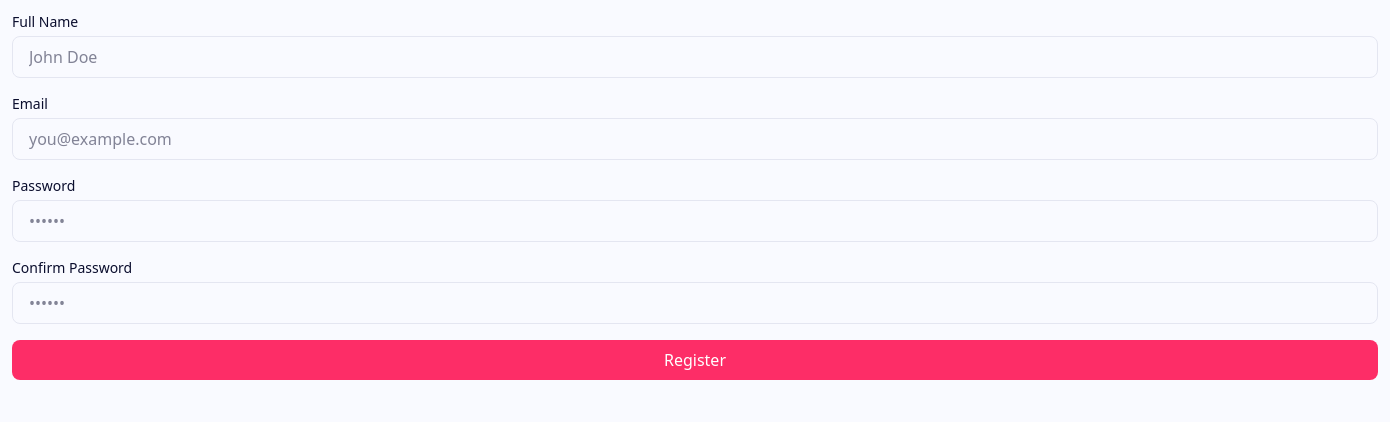
RegisterForm › Form Validation - Password › should display error for empty password
In the field with placeholder "John Doe": {"x": 695, "y": 57} [12, 36, 1378, 78], type "Jane Doe"
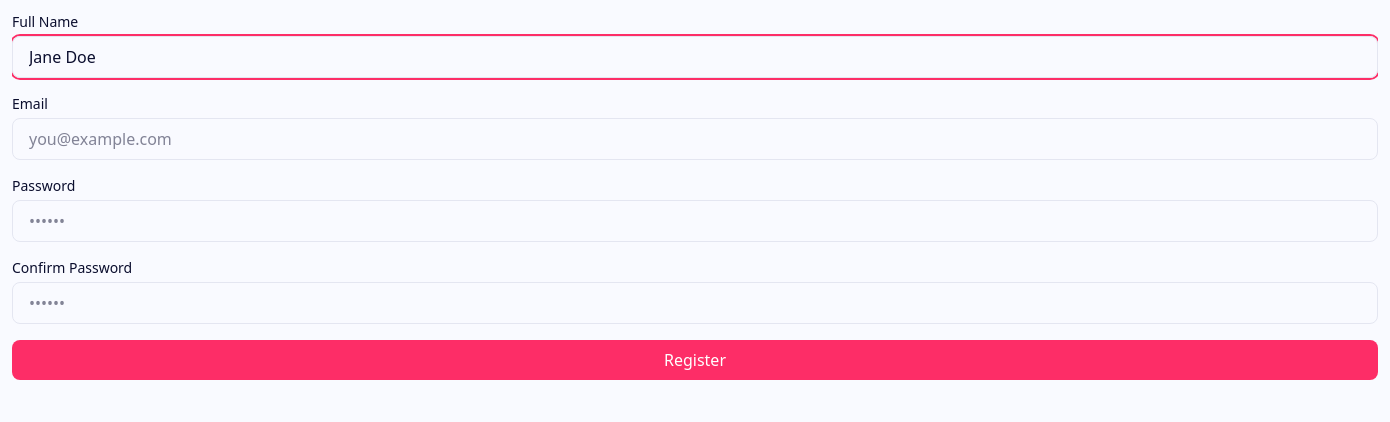
In the field with placeholder "you@example.com": {"x": 695, "y": 139} [12, 118, 1378, 160], type "jane@example.com"
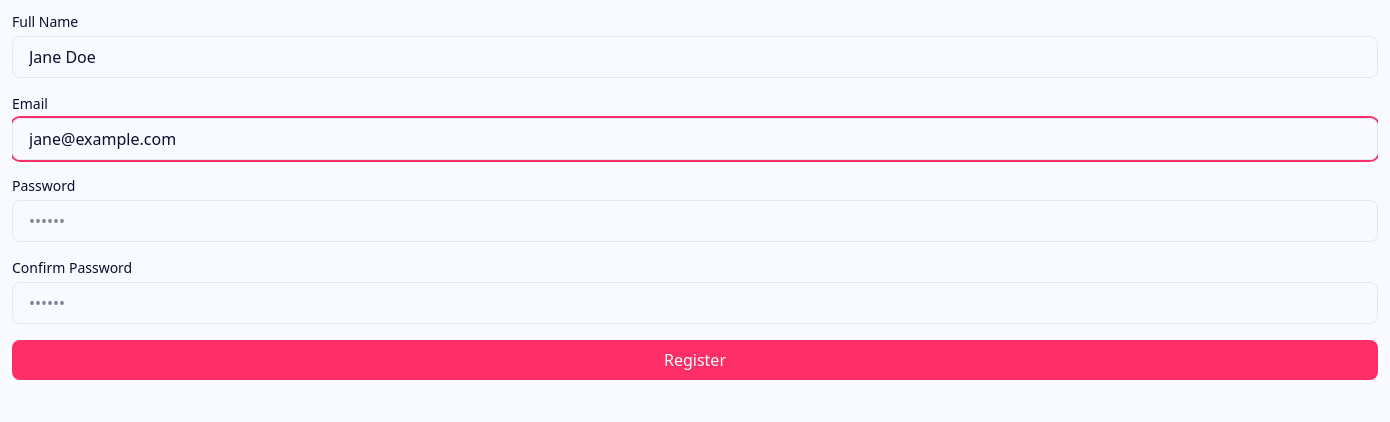
Click the button "Register": {"x": 695, "y": 360} [12, 340, 1378, 380]
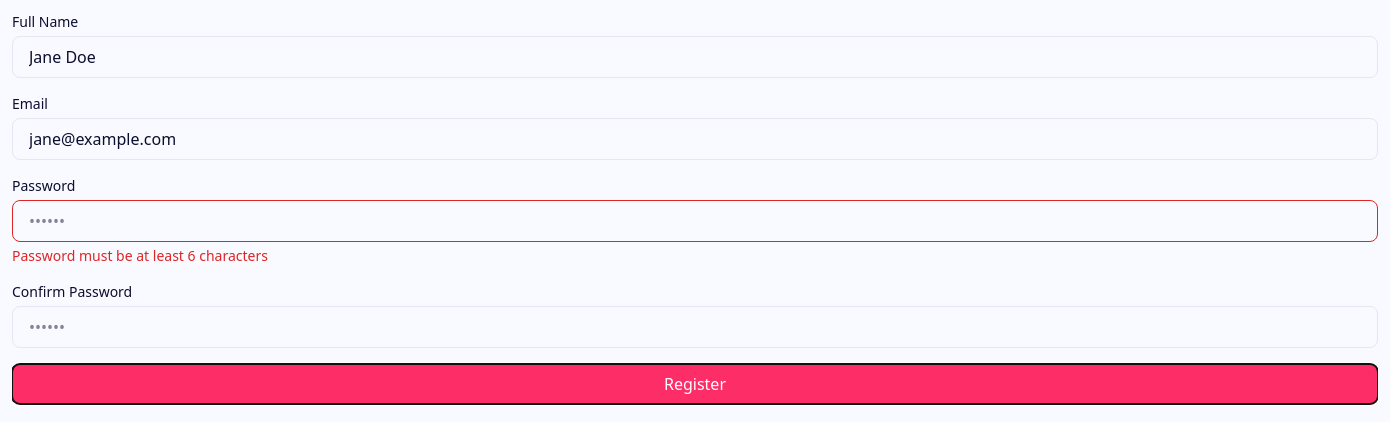
Check: the text "Password must be at least 6 characters" is shown, box [12, 246, 268, 265]
